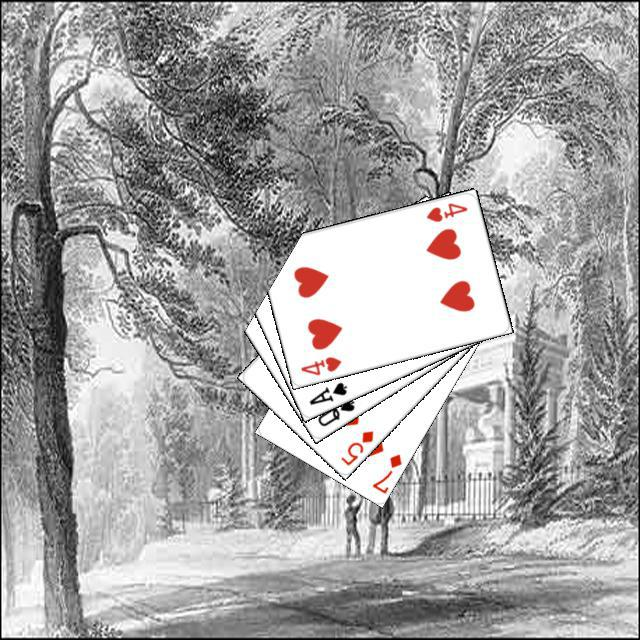4h: (421, 198, 469, 224), (296, 352, 343, 377)
5d: (336, 426, 375, 467)
7d: (367, 449, 404, 495)
As: (304, 377, 349, 407)
Qs: (313, 393, 356, 428)
